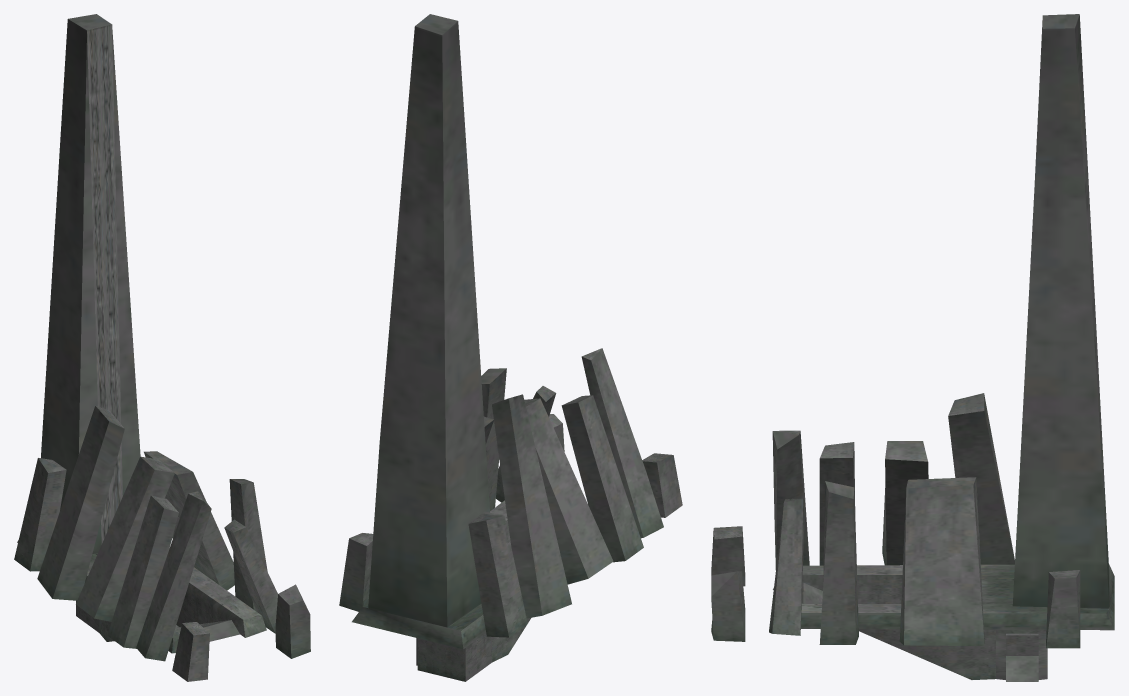
File: thm_yavn_jedi_enclave_dark_r0_exterior_mesh_l2.fbx
The picture shows the model from 3 angles, left to right: view 1: azimuth 30°, elevation 25°; view 2: azimuth 150°, elevation 25°; view 3: azimuth 270°, elevation 25°; orthographic projection. The views are drawn at different scales.
Parts seen in each view (by area): view 1: mesh_node; view 2: mesh_node; view 3: mesh_node.
Boxes of the visible parts, x1,y1,x2,y2 form: mesh_node: (14,14,310,681); mesh_node: (339,14,682,681); mesh_node: (711,14,1114,681).
Bounding box in the file's own units: 12.22 × 41.69 × 23.63.
